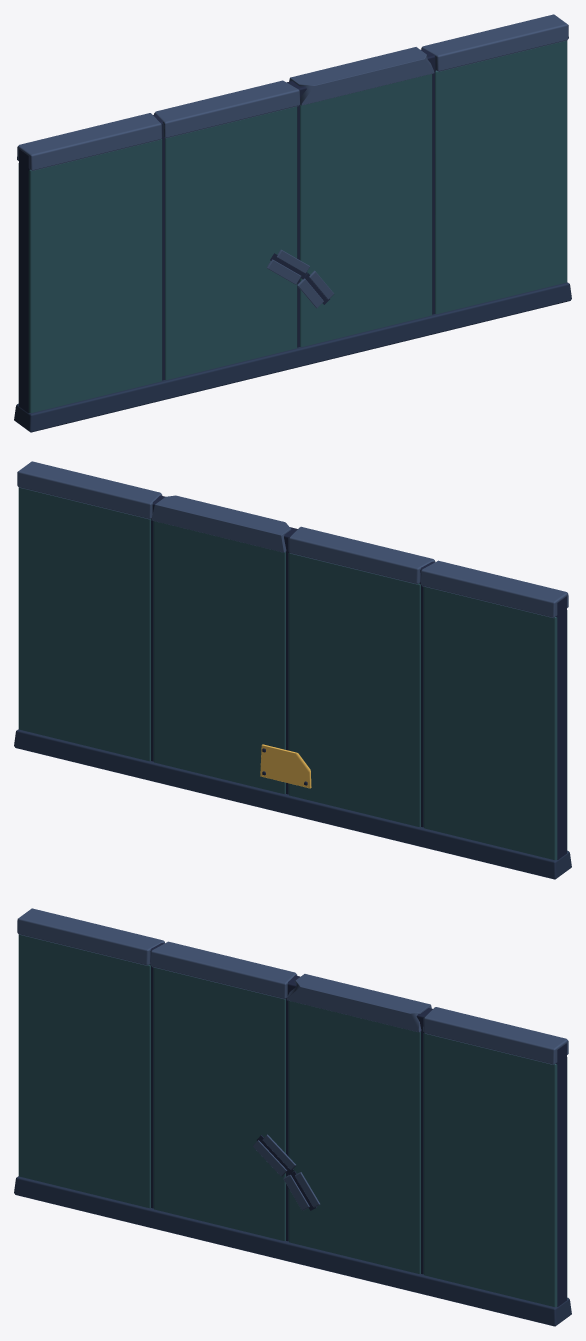
Rendered from wall_dark_teal_815_400_33.glb.
The picture shows the model from 3 angles, top to bottom: view 1: azimuth 30°, elevation 25°; view 2: azimuth 150°, elevation 25°; view 3: azimuth 330°, elevation 25°; orthographic projection.
Parts seen in each view (by area): view 1: wall_dark_teal_815_400_33; view 2: wall_dark_teal_815_400_33; view 3: wall_dark_teal_815_400_33.
Part boxes in pixels (bbox=[...]): wall_dark_teal_815_400_33: bbox=[14, 14, 571, 432]; wall_dark_teal_815_400_33: bbox=[14, 461, 571, 879]; wall_dark_teal_815_400_33: bbox=[14, 908, 571, 1326].
Size of the model in its own units: 8.19 by 4 by 0.4482.
